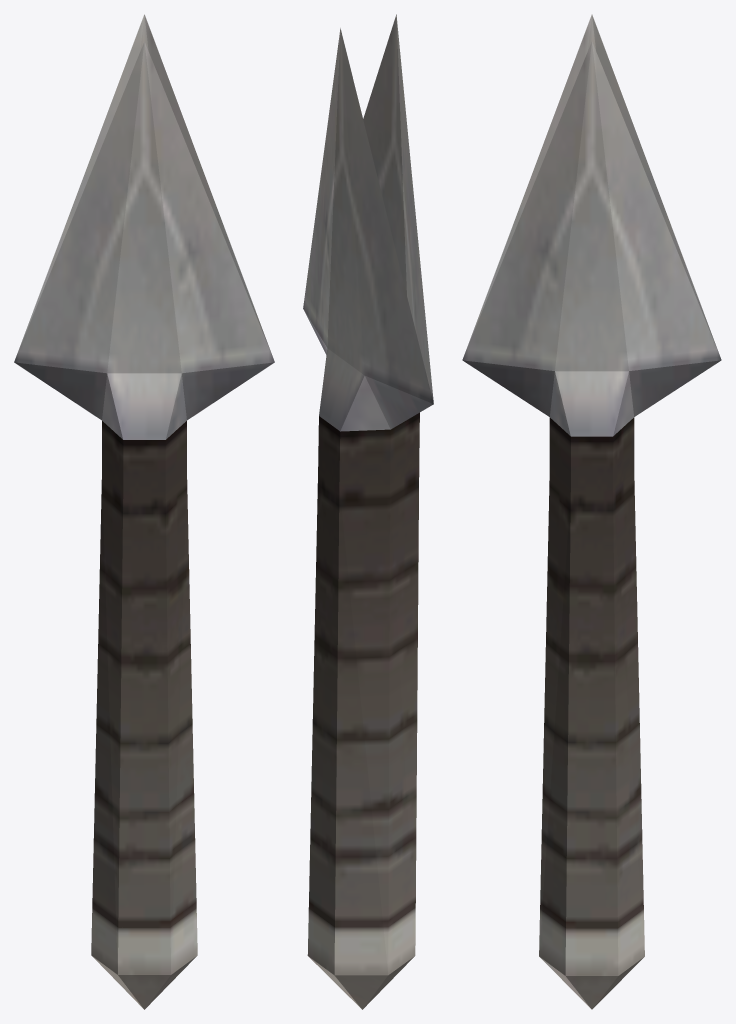
File: Cat_commonKnife.obj
The picture shows the model from 3 angles, left to right: view 1: azimuth 90°, elevation 25°; view 2: azimuth 210°, elevation 25°; view 3: azimuth 270°, elevation 25°; orthographic projection.
Visible parts, largest first — view 1: Cat_commonKnife_tri; view 2: Cat_commonKnife_tri; view 3: Cat_commonKnife_tri.
Part boxes in pixels (<box>): Cat_commonKnife_tri: <box>14,14,274,1009</box>; Cat_commonKnife_tri: <box>303,14,433,1009</box>; Cat_commonKnife_tri: <box>462,14,721,1009</box>.
Bounding box in the file's own units: 0.0291 × 0.312 × 0.0749.
1 material, 1 textured.
